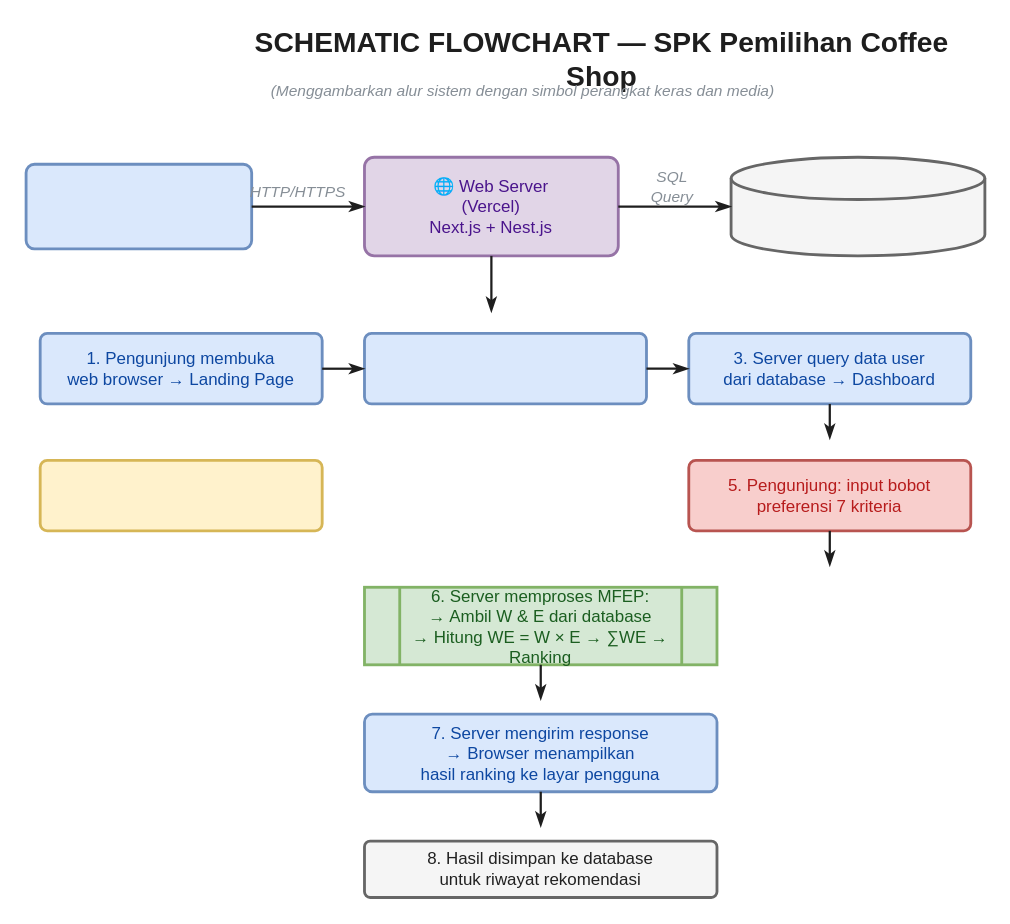
Image size: 1010x924. Some labels were removed from this diagram. Here are the shapes that lost their labels. From the top down, the centre of each, then its label:
At point 138,206: "🖥️ Komputer / 📱 Smartphone (Browser Web)".
At point 857,206: "🗄️ Database Server (Neon.db) PostgreSQL".
At point 504,368: "2. Login / Register → Server memvalidasi".
At point 180,495: "4. Admin: input data CS, kriteria, evaluasi via form".
